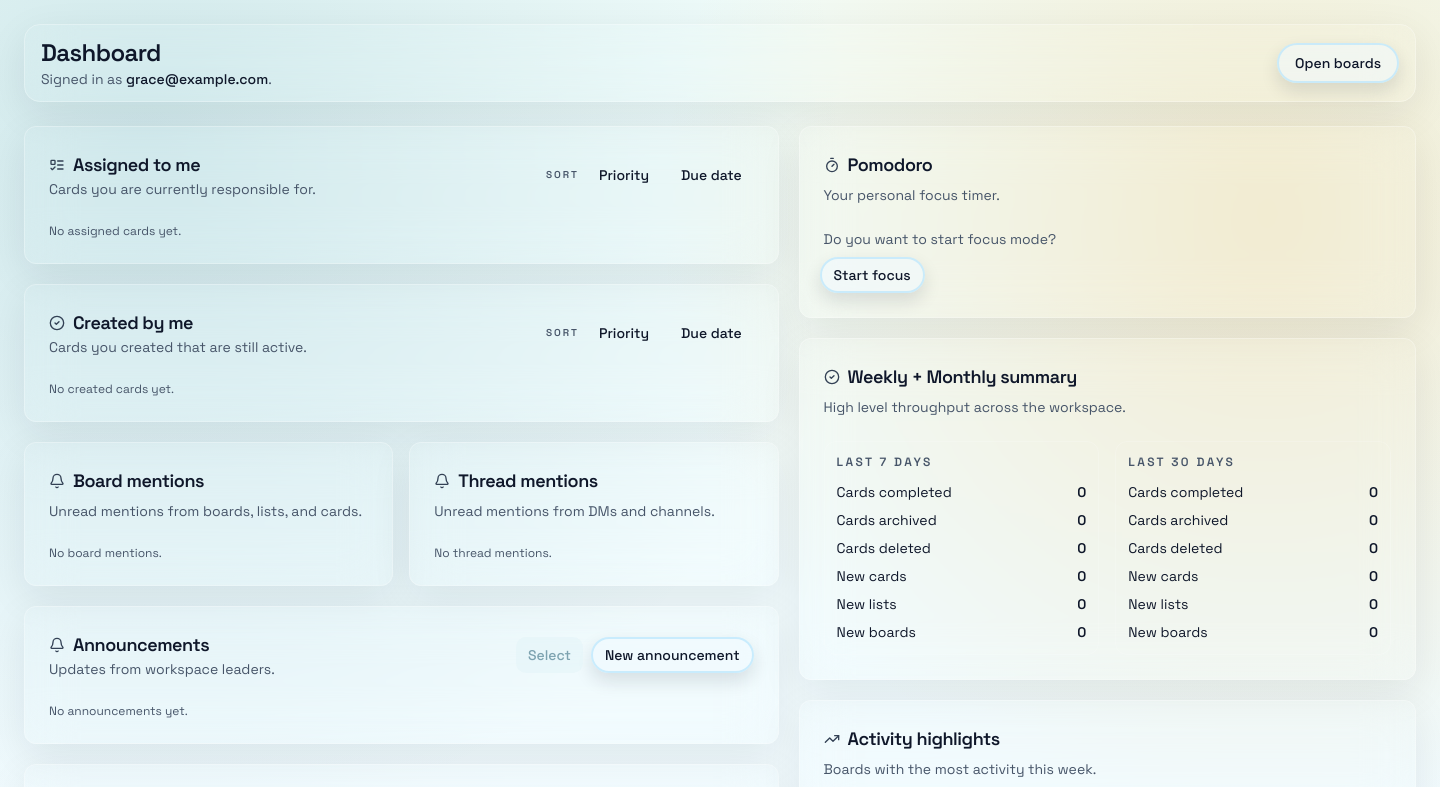
Test: HomePage › shows role alongside usernames in the audience list
Click the button "New announcement".
click(672, 655)  # box [591,637,754,673]
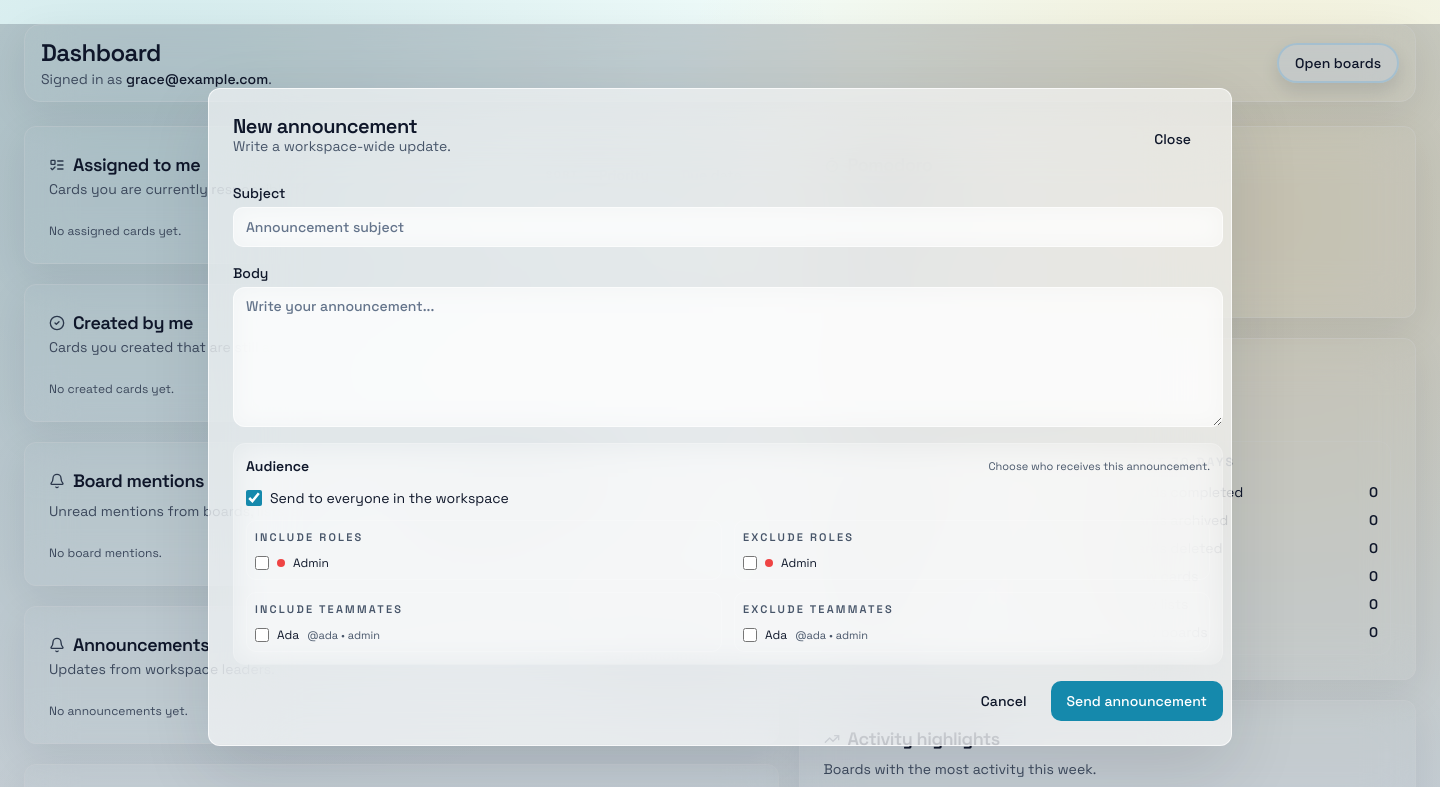
Expected: the text "@ada • admin" below "Include teammates" is shown, [307,627,380,643]
